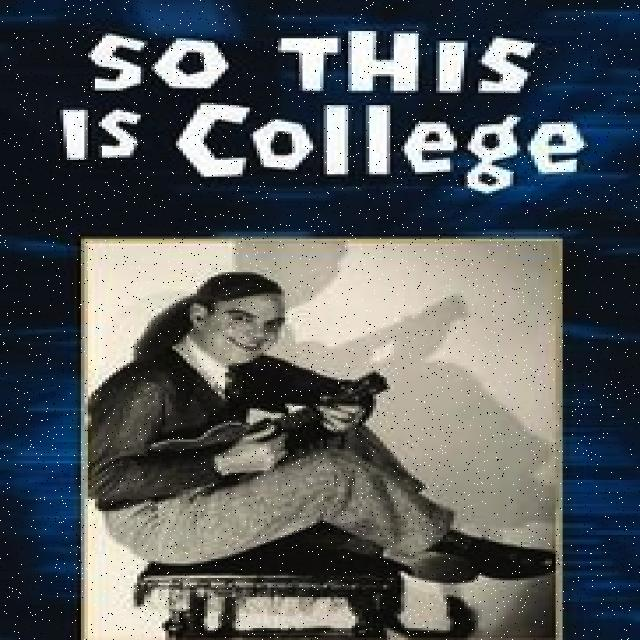movie-judul: (41, 23, 600, 199)
picture: (84, 238, 560, 638)
